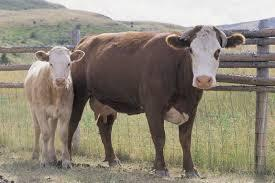cow: (73, 24, 245, 182), (23, 46, 86, 169)
